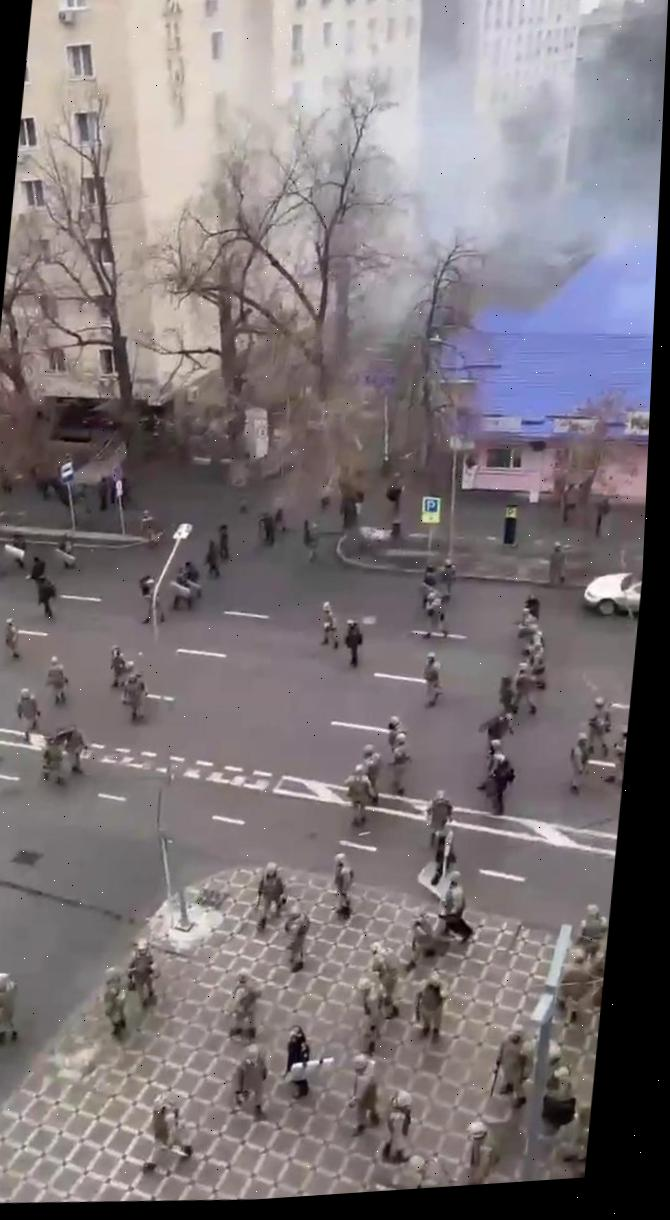car: (579, 559, 643, 624)
person: (137, 1088, 198, 1179), (274, 1019, 337, 1103), (485, 1021, 537, 1108), (407, 964, 457, 1050), (225, 1042, 274, 1127), (341, 1051, 387, 1139), (471, 736, 520, 818), (348, 972, 394, 1058), (219, 964, 265, 1048), (548, 945, 595, 1025), (536, 1061, 581, 1144), (432, 867, 479, 945), (362, 938, 406, 1020), (249, 858, 291, 935), (122, 934, 162, 1012), (459, 1116, 502, 1186), (497, 658, 544, 718), (338, 759, 378, 829), (96, 963, 132, 1039), (556, 1101, 591, 1179), (380, 1088, 416, 1161), (398, 1149, 459, 1190), (277, 903, 312, 974), (325, 850, 359, 922), (419, 786, 457, 850), (381, 730, 416, 796), (583, 693, 616, 755), (414, 649, 447, 710), (0, 967, 25, 1047), (583, 934, 608, 1014), (11, 686, 44, 746), (572, 902, 610, 953), (565, 729, 593, 796), (56, 723, 91, 776), (418, 589, 453, 642), (601, 724, 628, 788), (39, 730, 69, 786), (137, 575, 169, 626), (544, 536, 574, 586), (339, 615, 365, 670), (106, 643, 135, 688), (44, 655, 70, 705), (317, 600, 343, 650), (120, 672, 145, 721), (434, 555, 461, 600), (179, 558, 204, 606), (168, 564, 193, 609), (2, 533, 30, 573), (34, 573, 58, 619), (200, 535, 225, 579), (52, 529, 80, 568), (1, 615, 23, 660), (134, 507, 159, 546), (23, 553, 47, 592), (213, 521, 234, 562), (0, 536, 9, 582)
